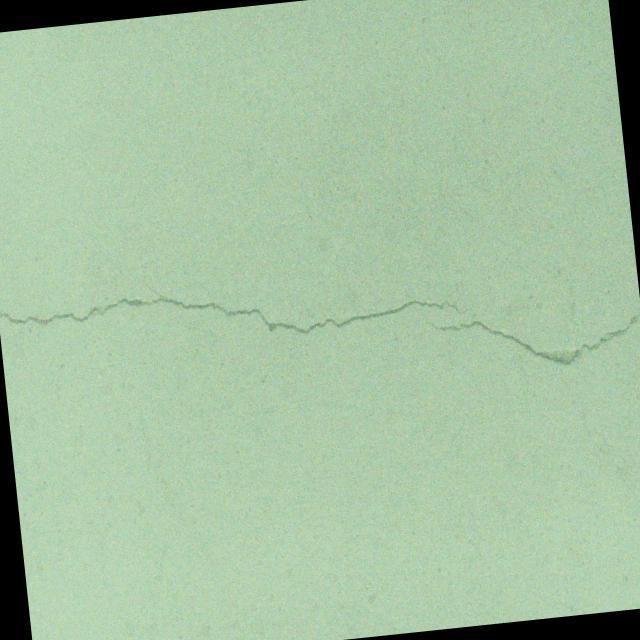crack: (0, 238, 475, 367), (423, 295, 640, 380)
